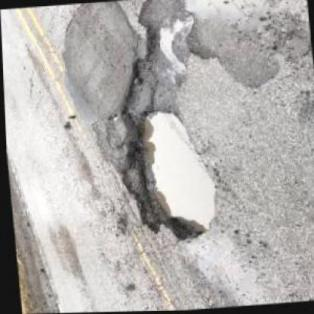Hueco: (108, 103, 219, 245)
